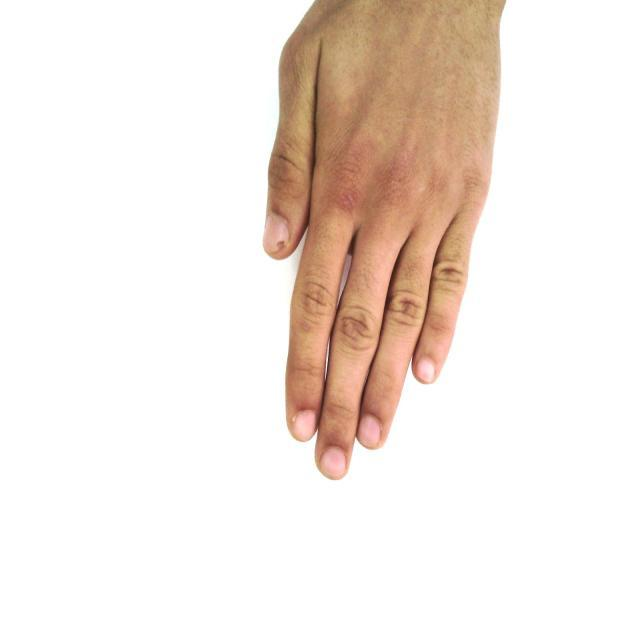Fingernail: (264, 215, 288, 253), (321, 448, 345, 478), (292, 411, 315, 440), (360, 417, 380, 447), (417, 359, 434, 381)
